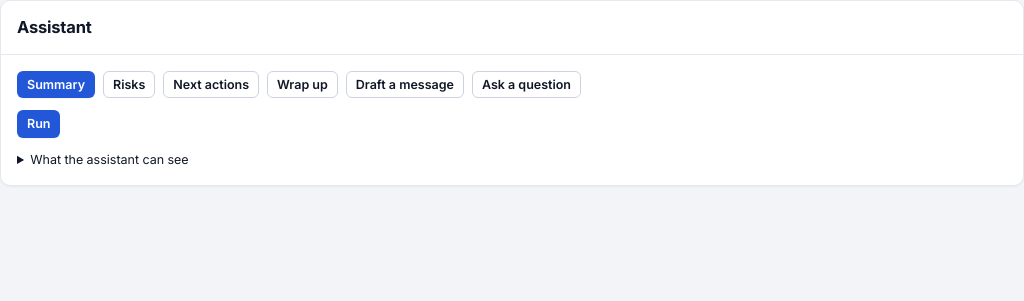
Test case: AssistPanel › offers a retry only when the server says the failure is retryable
Click the button "Run" at (39,124), box [17, 110, 60, 138]
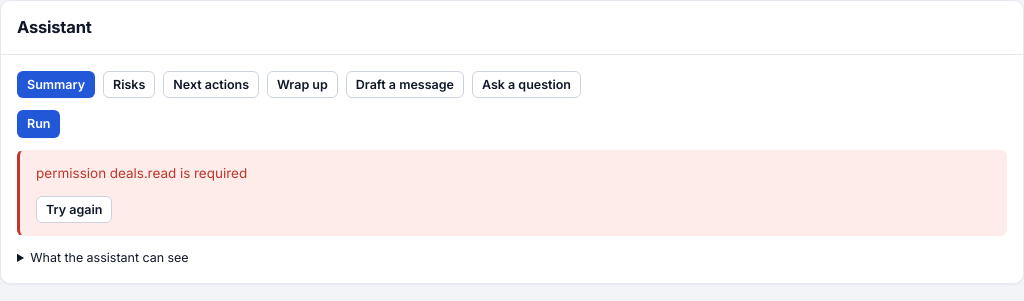
Expected: the button "Try again" is shown, [36, 196, 112, 223]
